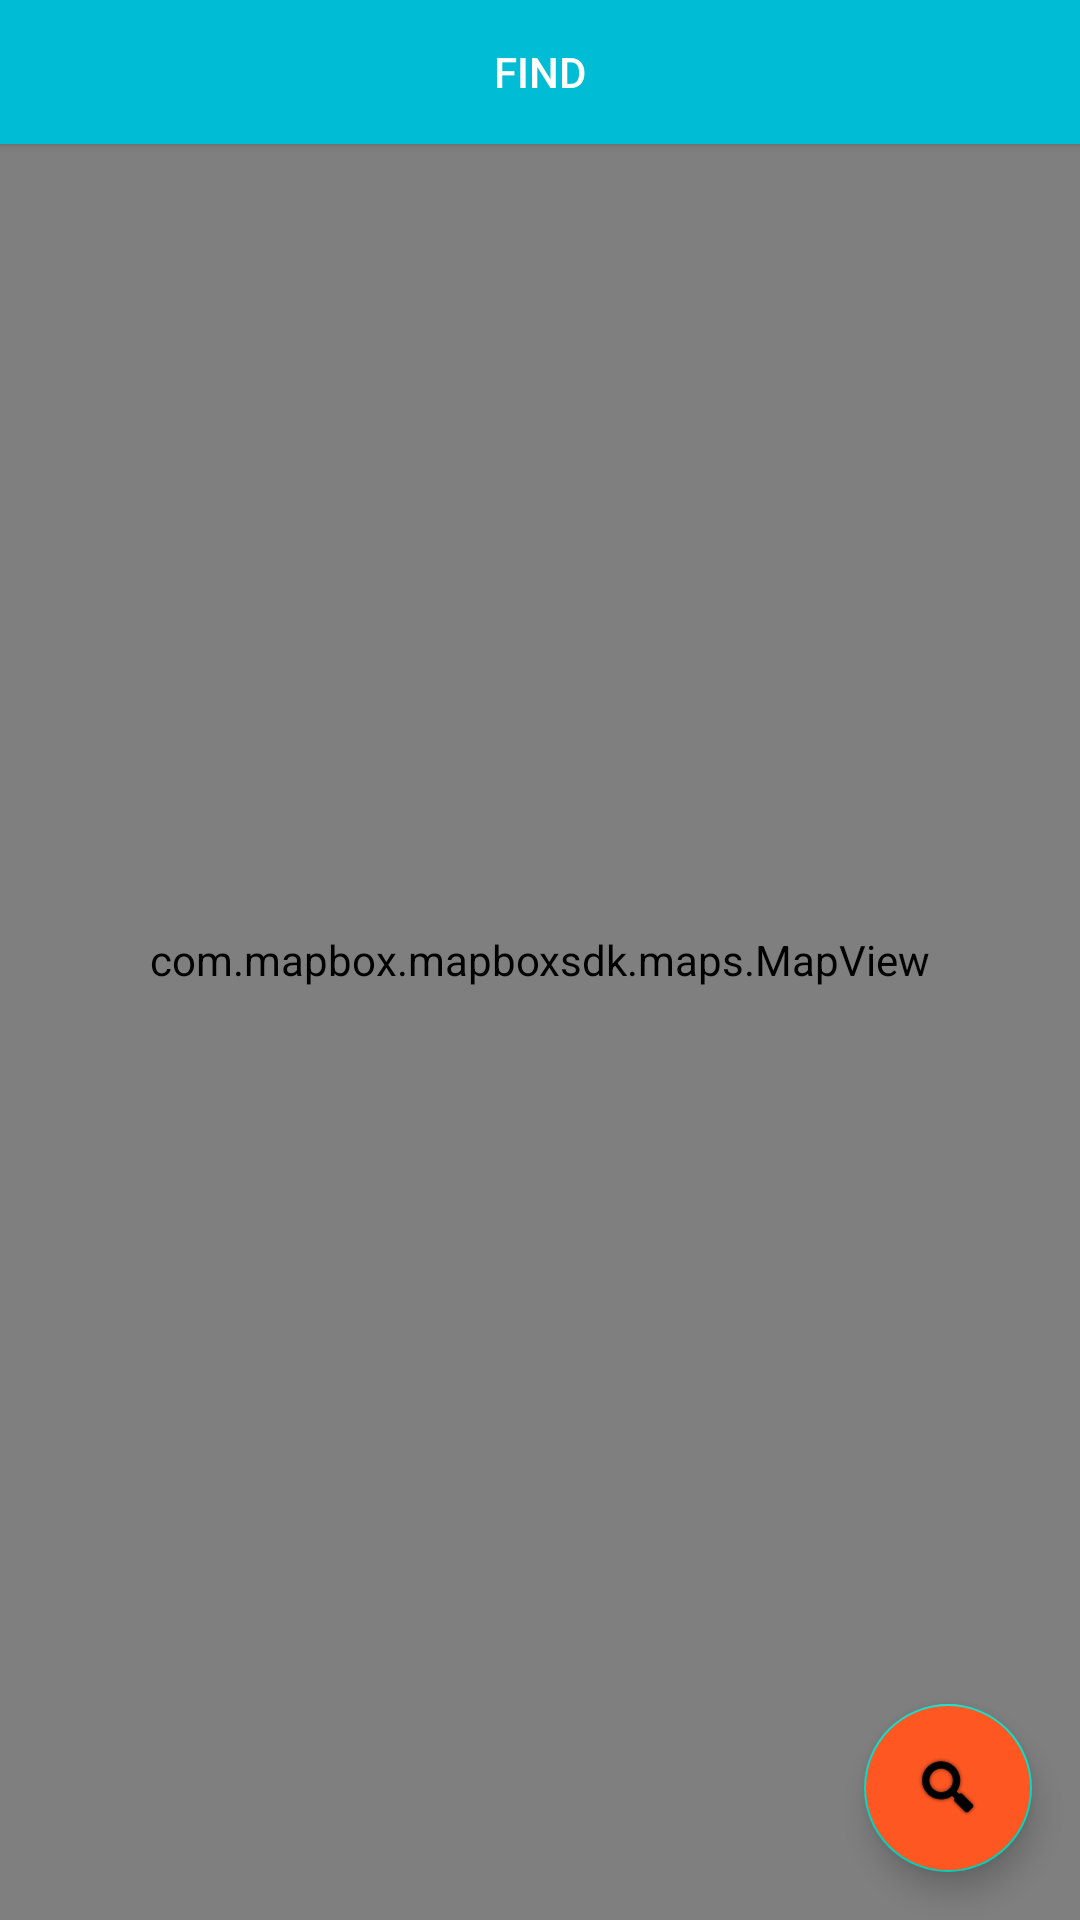

Locate icon controls on the screen. Image size 1080*1920, boxes as (x1, y1, x2, y2).
search category: (864, 1704, 1032, 1872)
